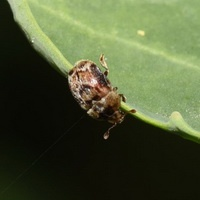insect: (68, 54, 125, 138)
